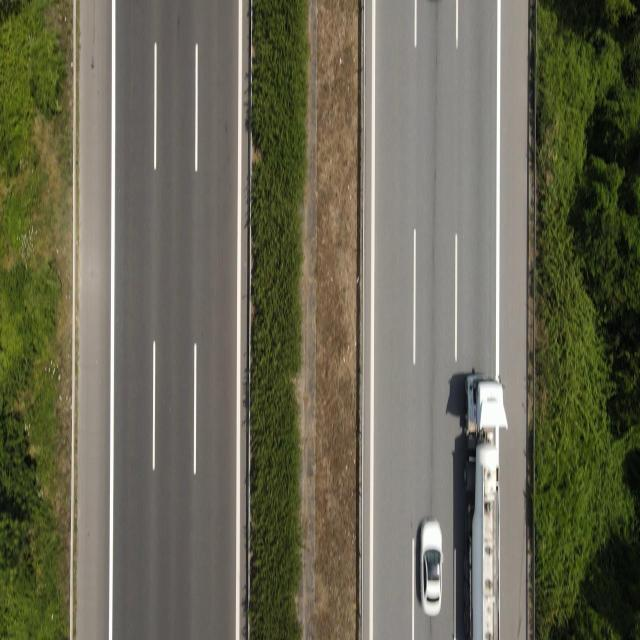Car: (420, 518, 443, 618)
Truck: (461, 370, 509, 640)
